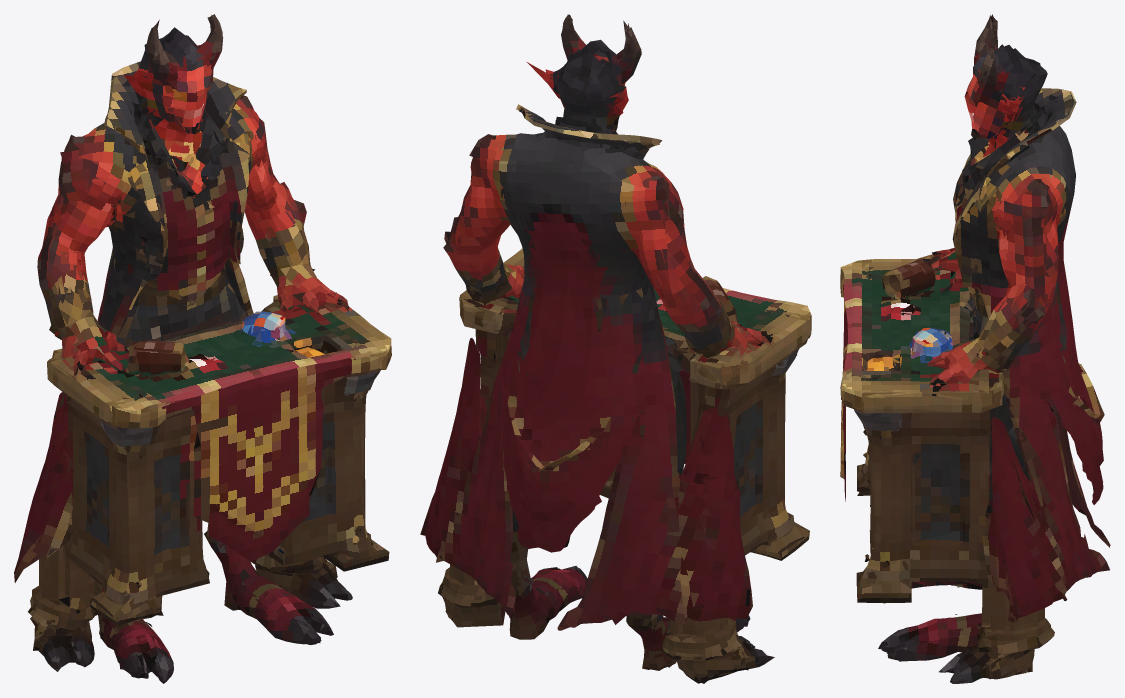
Rendered from SM_Gambler_QuadRetro.glb.
3 renders of one model, left to right at view 1: azimuth 30°, elevation 25°; view 2: azimuth 150°, elevation 25°; view 3: azimuth 270°, elevation 25°, orthographic. The views are drawn at different scales.
Visible parts, largest first — view 1: Gambler_QuadRemesh; view 2: Gambler_QuadRemesh; view 3: Gambler_QuadRemesh.
Boxes of the visible parts, left/top/right/bottom form: Gambler_QuadRemesh: left=14, top=14, right=391, bottom=683; Gambler_QuadRemesh: left=420, top=14, right=811, bottom=683; Gambler_QuadRemesh: left=840, top=14, right=1110, bottom=683.
Bounding box in the file's own units: 1.08 × 1.97 × 0.8103.
Materials: 1 (1 with a texture image).
